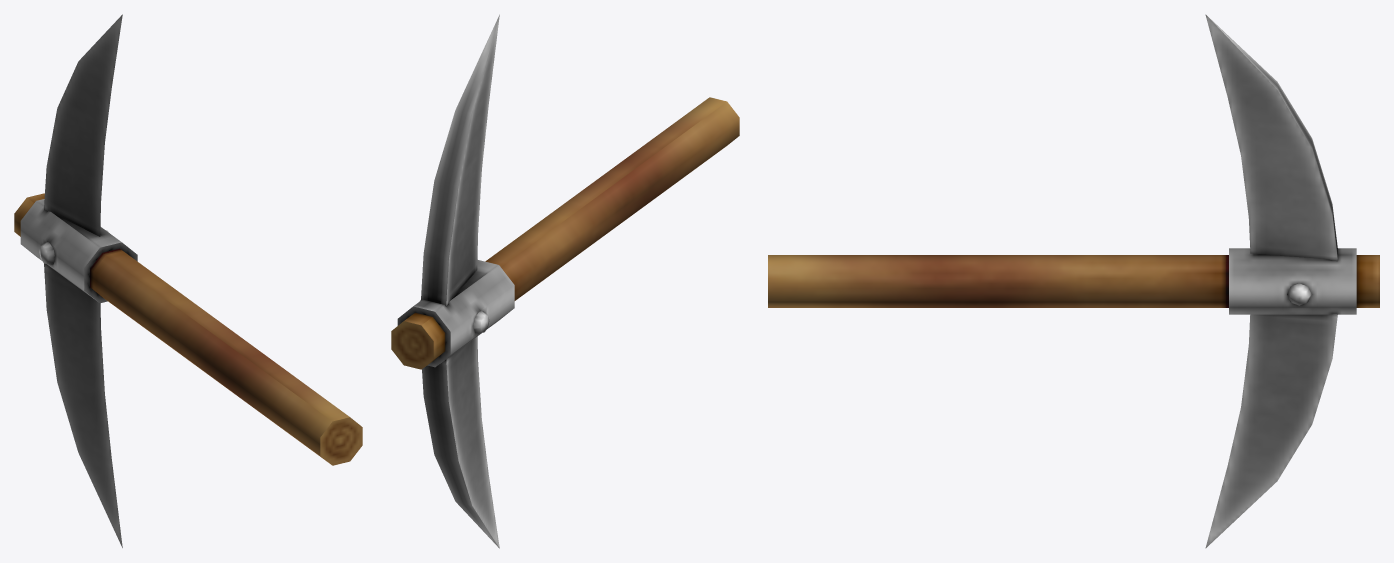
Rendered from club010.fbx.
3 renders of one model, left to right at view 1: azimuth 30°, elevation 25°; view 2: azimuth 150°, elevation 25°; view 3: azimuth 270°, elevation 25°, orthographic.
Visible parts, largest first — view 1: club010; view 2: club010; view 3: club010.
Part boxes in pixels (x1,y1,x2,y2): club010: [14, 14, 362, 547]; club010: [391, 14, 739, 548]; club010: [768, 14, 1379, 548].
Size of the model in its own units: 0.0629 by 0.4645 by 0.4813.
